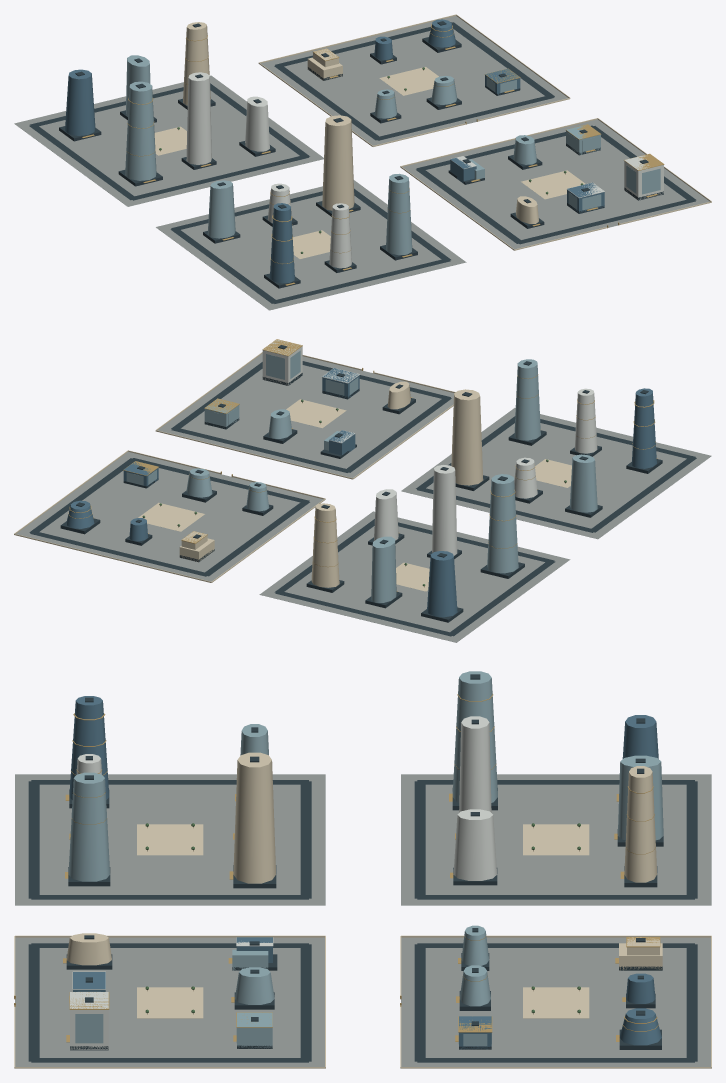
Rendered from GC-TILE-07-12.glb.
The picture shows the model from 3 angles, top to bottom: view 1: azimuth 30°, elevation 25°; view 2: azimuth 150°, elevation 25°; view 3: azimuth 270°, elevation 25°; orthographic projection. The views are drawn at different scales.
Parts seen in each view (by area): view 1: GC-TILE-07-12-paving, GC-TILE-07-12-dark, GC-TILE-07-12-ivory, GC-TILE-07-12-glass, GC-TILE-07-12-white, GC-TILE-07-12-blue, GC-TILE-07-12-gold; view 2: GC-TILE-07-12-paving, GC-TILE-07-12-dark, GC-TILE-07-12-ivory, GC-TILE-07-12-glass, GC-TILE-07-12-white, GC-TILE-07-12-blue, GC-TILE-07-12-gold; view 3: GC-TILE-07-12-paving, GC-TILE-07-12-dark, GC-TILE-07-12-ivory, GC-TILE-07-12-glass, GC-TILE-07-12-white, GC-TILE-07-12-blue, GC-TILE-07-12-gold.
Boxes of the visible parts, x1,y1,x2,y2 form: GC-TILE-07-12-paving: [14, 16, 709, 310]; GC-TILE-07-12-dark: [29, 21, 696, 303]; GC-TILE-07-12-ivory: [154, 14, 711, 258]; GC-TILE-07-12-glass: [125, 55, 660, 255]; GC-TILE-07-12-white: [186, 72, 663, 268]; GC-TILE-07-12-blue: [65, 19, 604, 283]; GC-TILE-07-12-gold: [82, 24, 664, 285]; GC-TILE-07-12-paving: [16, 353, 711, 642]; GC-TILE-07-12-dark: [29, 345, 696, 636]; GC-TILE-07-12-ivory: [14, 352, 571, 591]; GC-TILE-07-12-glass: [126, 350, 597, 602]; GC-TILE-07-12-white: [262, 340, 597, 555]; GC-TILE-07-12-blue: [66, 368, 656, 617]; GC-TILE-07-12-gold: [68, 339, 657, 591]; GC-TILE-07-12-paving: [15, 774, 711, 1066]; GC-TILE-07-12-dark: [28, 674, 697, 1062]; GC-TILE-07-12-ivory: [14, 752, 711, 1068]; GC-TILE-07-12-glass: [68, 671, 663, 1048]; GC-TILE-07-12-white: [70, 716, 497, 1049]; GC-TILE-07-12-blue: [69, 696, 661, 1049]; GC-TILE-07-12-gold: [14, 694, 660, 1042].
Size of the model in its own units: 758 by 150 by 760.
